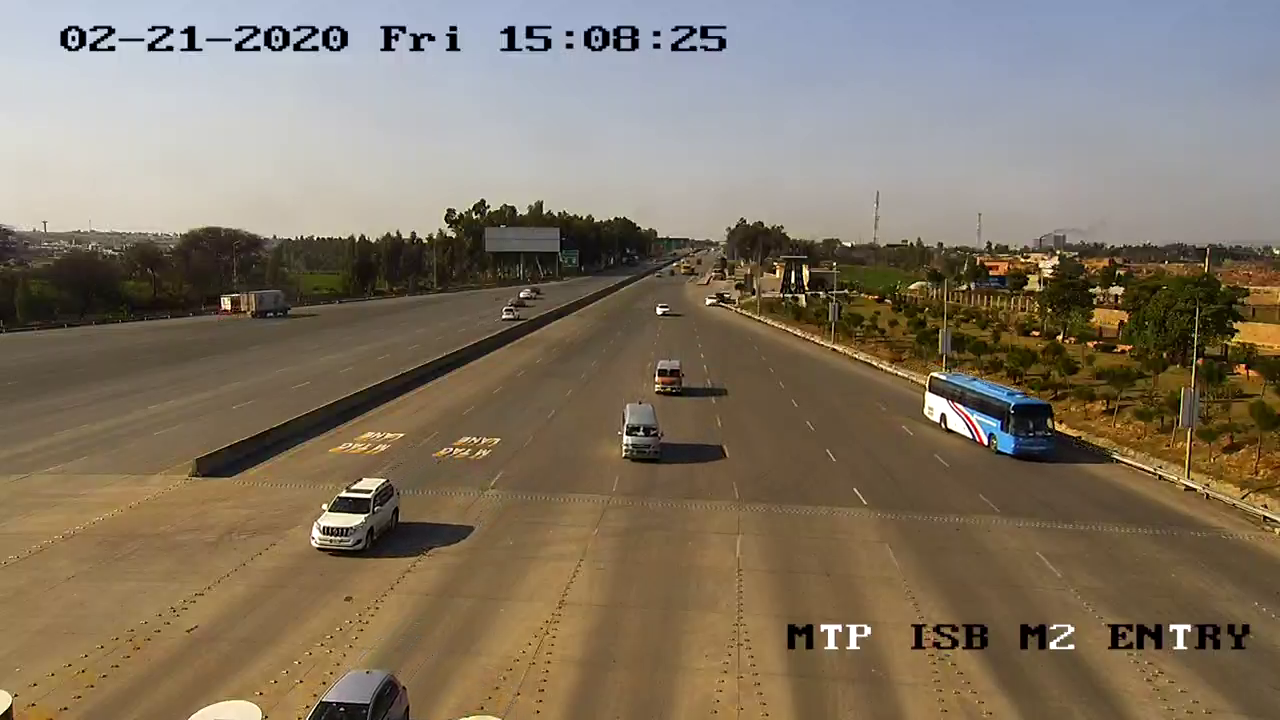f1: (300, 470, 408, 561)
f3: (609, 393, 668, 471)
f4: (915, 369, 1063, 471)
